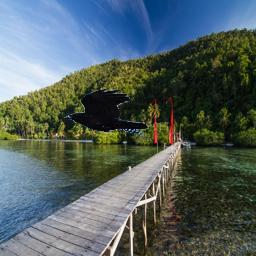Crow: (64, 89, 148, 136)
